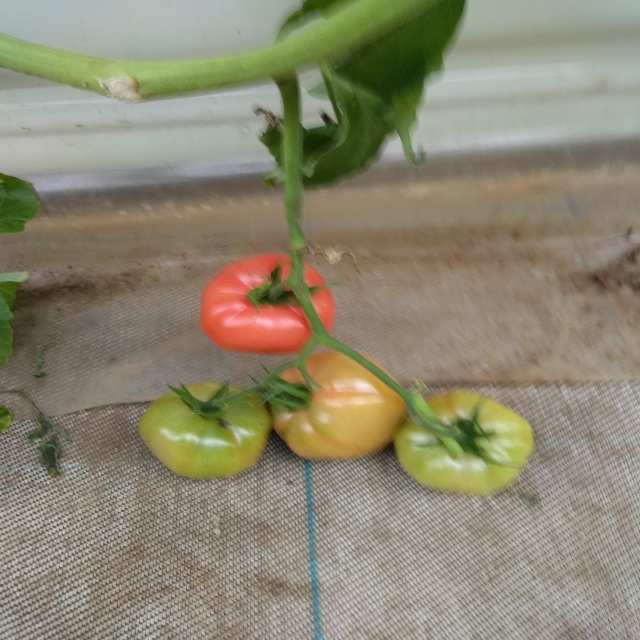b_fully_ripened: (199, 254, 336, 357)
b_green: (392, 392, 532, 494), (138, 380, 271, 479)
b_half_ripened: (268, 349, 411, 460)
